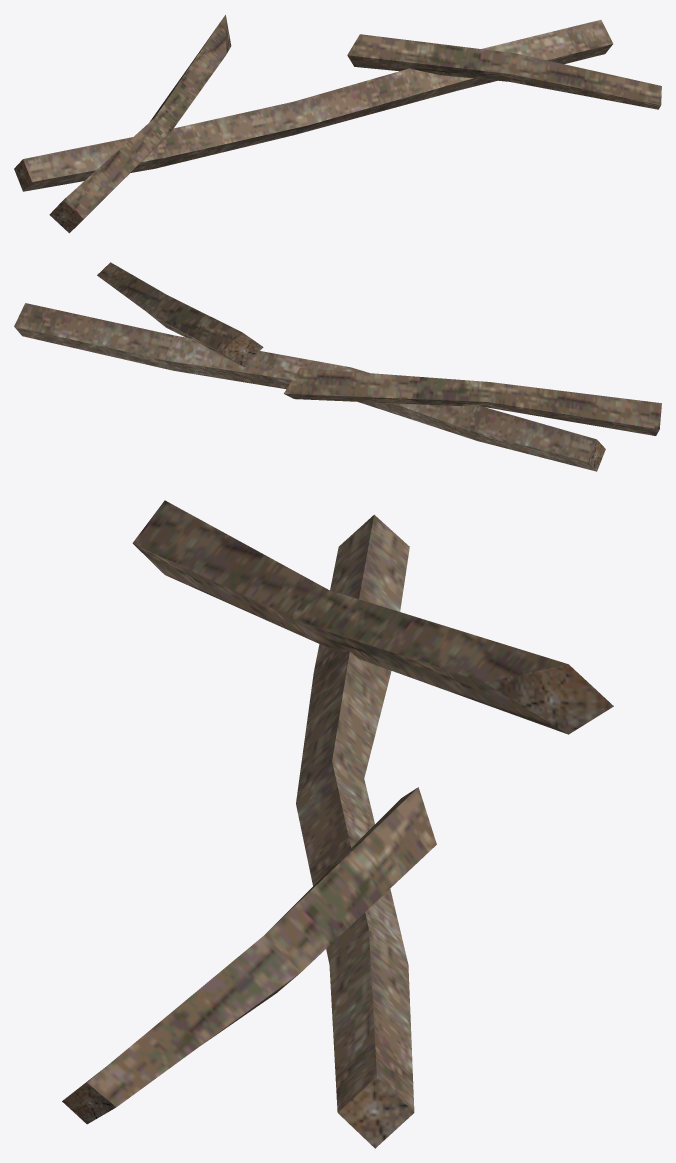
File: WoodRailFence_TimberPile_Model.fbx
The picture shows the model from 3 angles, top to bottom: view 1: azimuth 30°, elevation 25°; view 2: azimuth 150°, elevation 25°; view 3: azimuth 270°, elevation 25°; orthographic projection. The views are drawn at different scales.
Visible parts, largest first — view 1: Body; view 2: Body; view 3: Body.
Part boxes in pixels (bbox=[...]): Body: bbox=[14, 15, 661, 233]; Body: bbox=[14, 262, 661, 471]; Body: bbox=[62, 500, 613, 1148].
Size of the model in its own units: 206 by 27.63 by 83.14.
